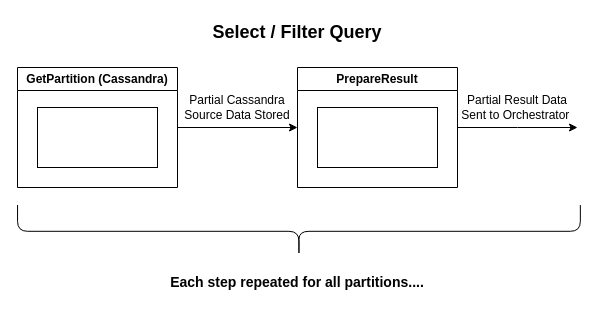
This 603x314 diagram has some shape labels left out. Each missing label, with the centre of its shape:
"Fetch Partition Data From Cassandra" goes at (97,137).
"Row-Level Operations (Select/Filter)" goes at (377,137).
